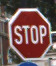stopsign: (9, 7, 51, 61)
